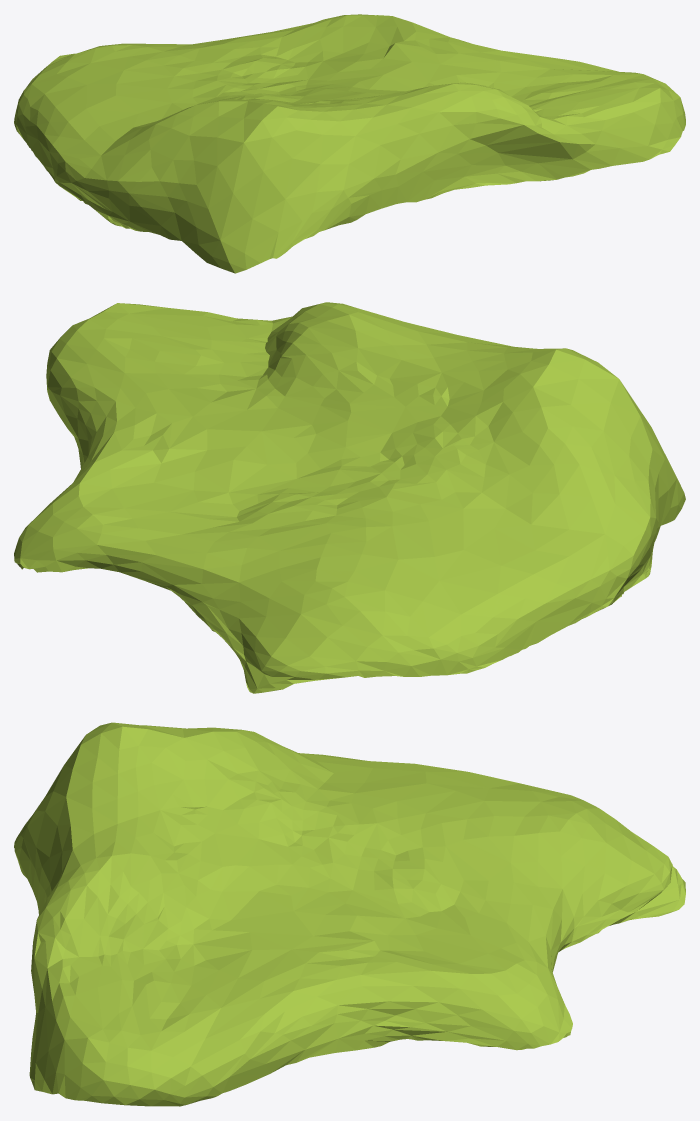
The model's file is hill_001.glb.
The picture shows the model from 3 angles, top to bottom: view 1: azimuth 30°, elevation 25°; view 2: azimuth 150°, elevation 25°; view 3: azimuth 270°, elevation 25°; orthographic projection. The views are drawn at different scales.
Parts seen in each view (by area): view 1: hill_001; view 2: hill_001; view 3: hill_001.
Boxes of the visible parts, x1=… form: hill_001: x1=14, y1=14, x2=685, y2=273; hill_001: x1=14, y1=302, x2=685, y2=693; hill_001: x1=14, y1=722, x2=685, y2=1106.
Bounding box in the file's own units: 136 × 30.99 × 116.
Materials: 1 (1 with a texture image).
